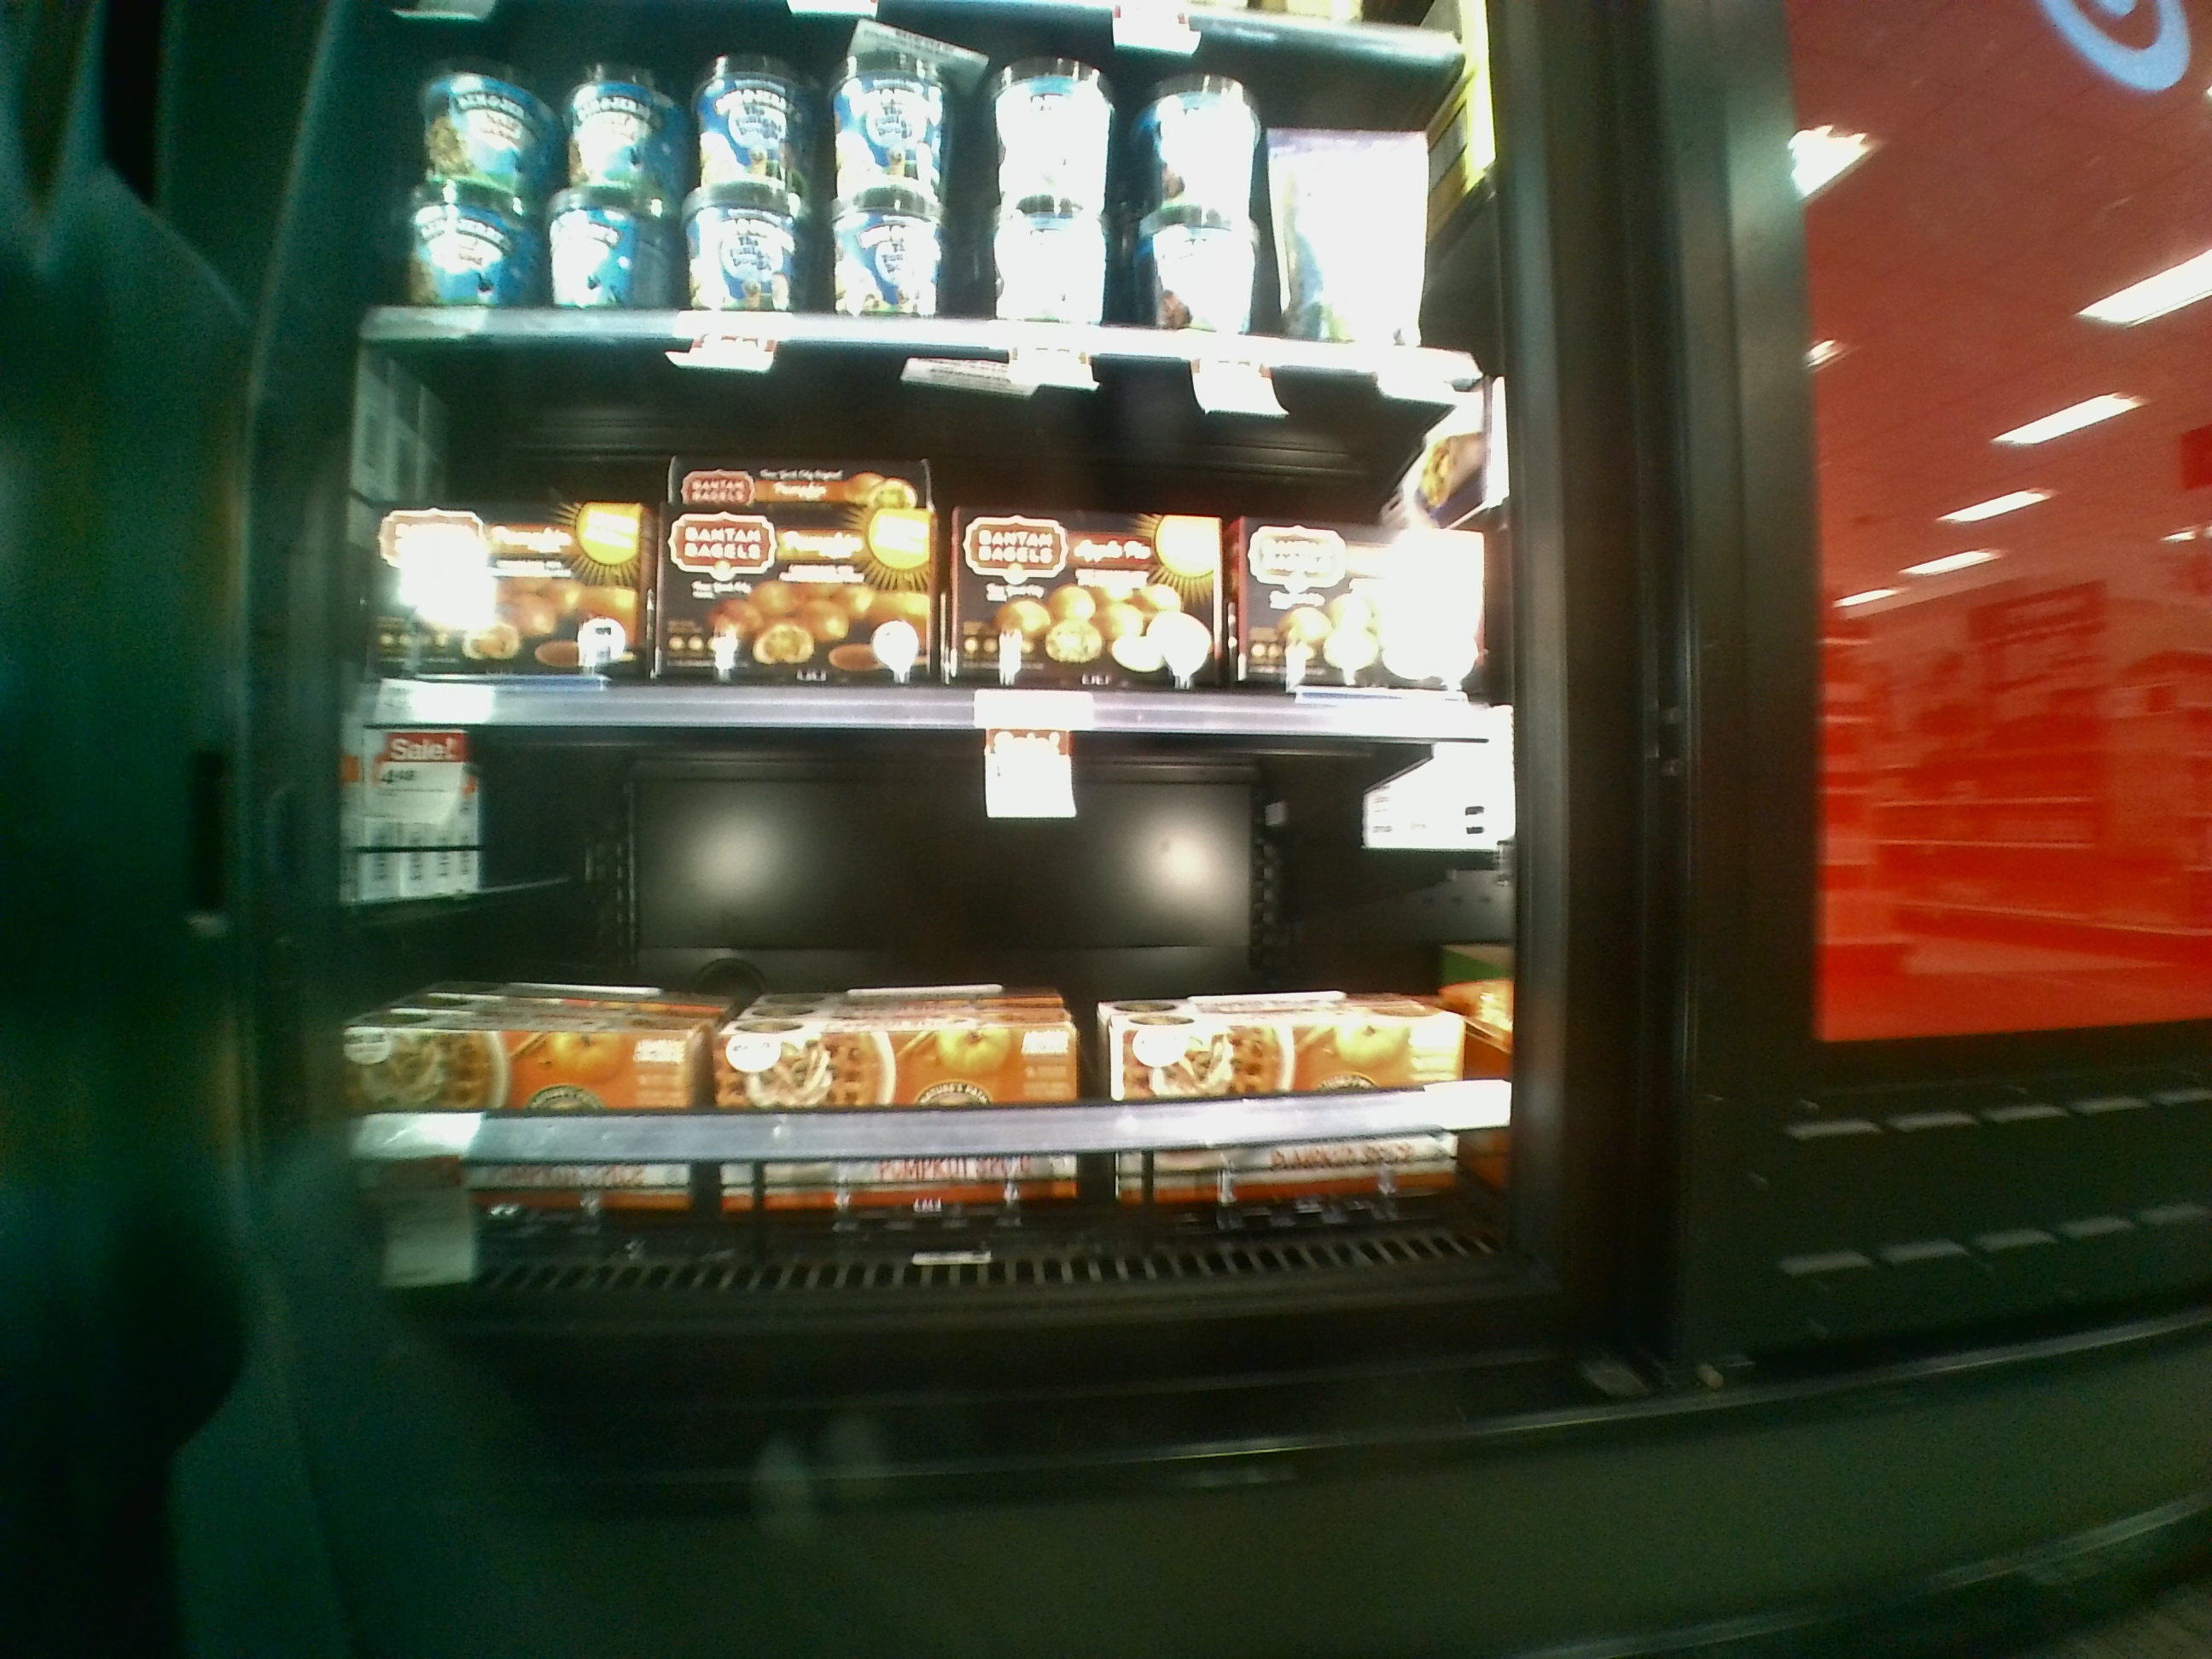shelf: (303, 680, 1529, 1288), (340, 319, 1514, 742)
